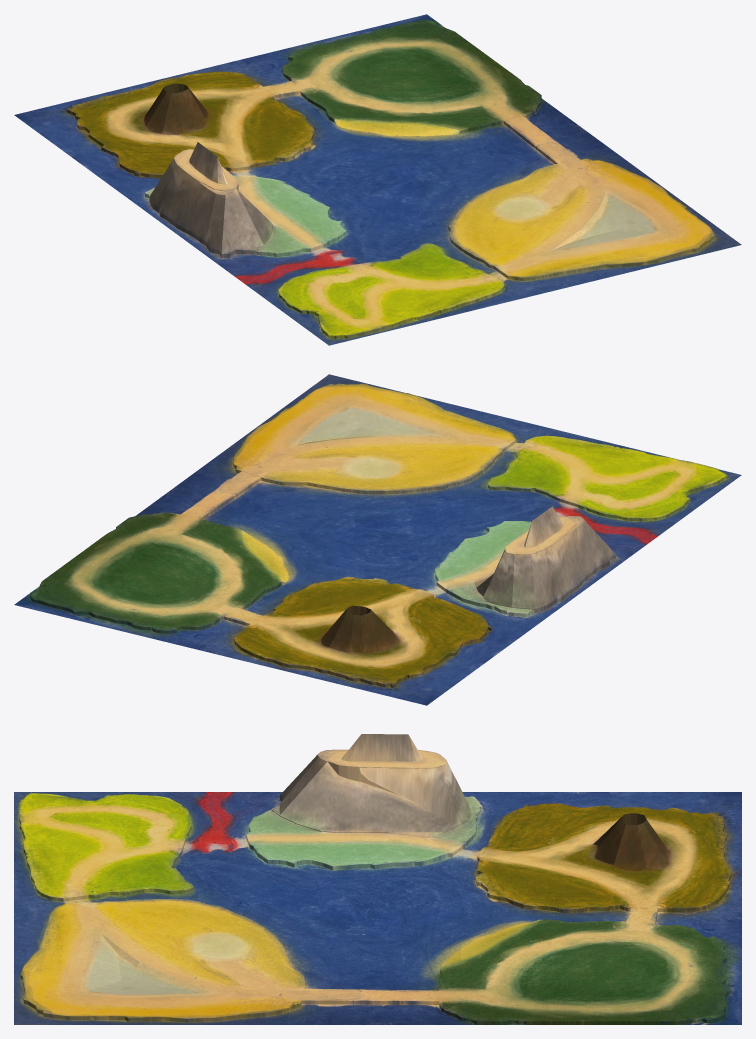
The model's file is archipelago.fbx.
3 renders of one model, top to bottom at view 1: azimuth 30°, elevation 25°; view 2: azimuth 150°, elevation 25°; view 3: azimuth 270°, elevation 25°, orthographic. The views are drawn at different scales.
Parts seen in each view (by area): view 1: Board; view 2: Board; view 3: Board.
Part boxes in pixels (x1,y1,x2,y2): Board: [14, 14, 741, 345]; Board: [14, 374, 741, 705]; Board: [14, 734, 741, 1024].
Size of the model in its own units: 100 by 16.04 by 132.
